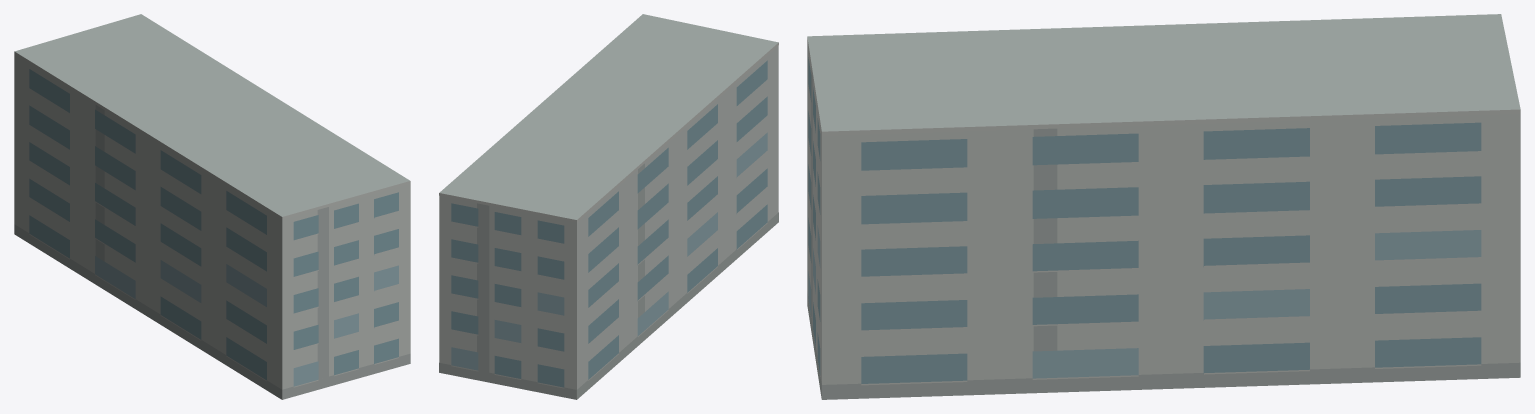
Rendered from survey-upis-32697538.glb.
3 renders of one model, left to right at view 1: azimuth 30°, elevation 25°; view 2: azimuth 150°, elevation 25°; view 3: azimuth 270°, elevation 25°, orthographic. The views are drawn at different scales.
Visible parts, largest first — view 1: survey-upis-32697538.tmp; view 2: survey-upis-32697538.tmp; view 3: survey-upis-32697538.tmp.
Boxes of the visible parts, x1,y1,x2,y2 form: survey-upis-32697538.tmp: (14, 14, 410, 399); survey-upis-32697538.tmp: (439, 14, 778, 399); survey-upis-32697538.tmp: (807, 14, 1520, 399).
Bounding box in the file's own units: 14.22 × 15.1 × 36.41.
